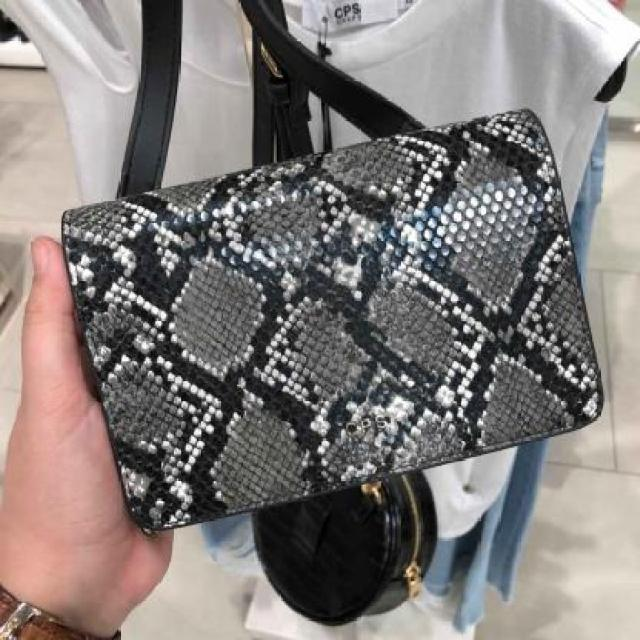Bag: (48, 0, 629, 549)
